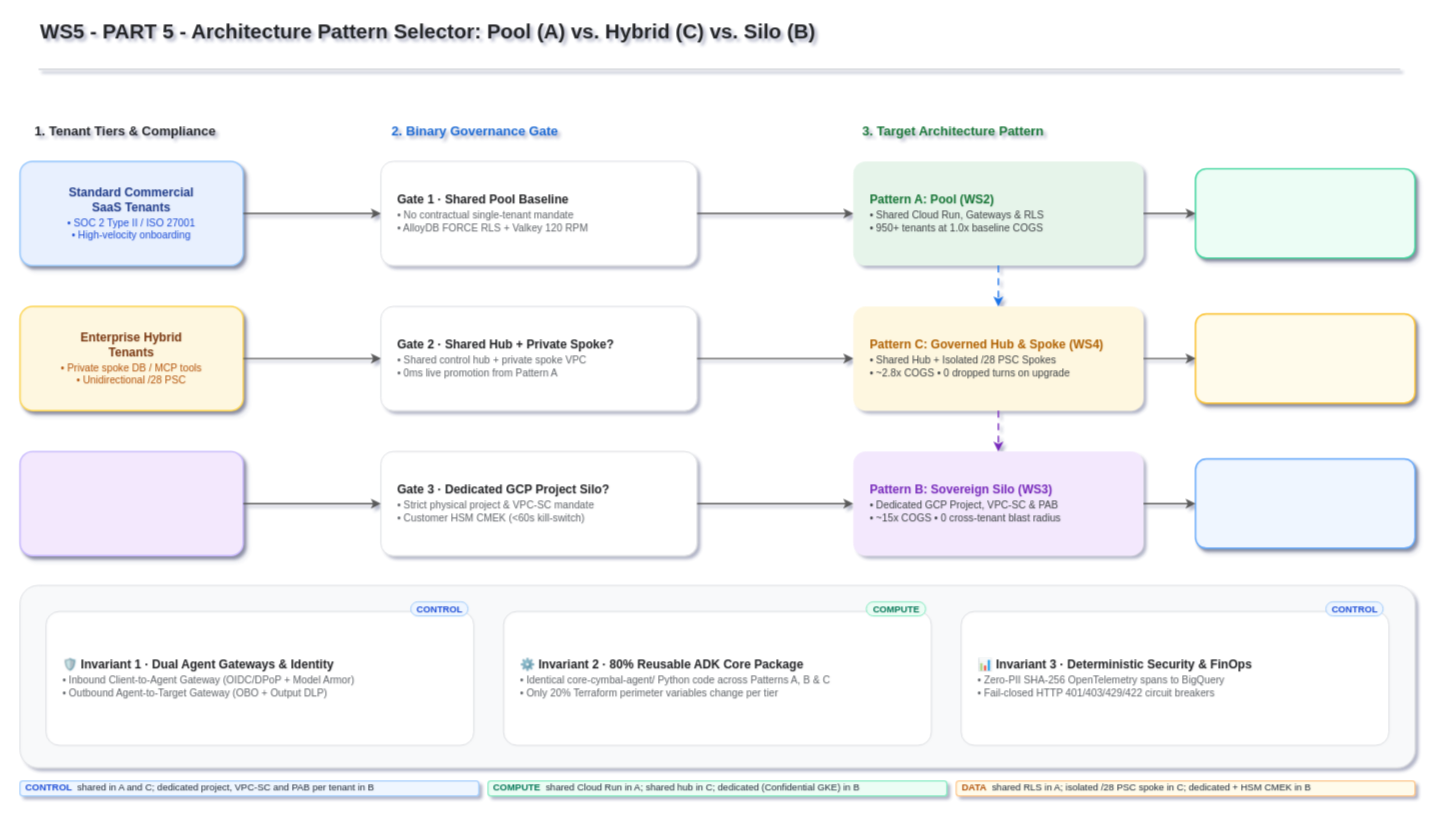
The diagram is 1443 pixels wide and 817 high, and some of its shapes have lost their labels. Here are the shapes that lost their labels. From the top down, the centre of each, then its label:
At (1306,214): "1,000+ Tenants 1.0x Baseline COGS 89.1% Prefix Cache Savings".
At (1306,359): "Private Spoke Data 0ms Live Cutover Unidirectional /28 PSC".
At (132,504): "Regulated Sovereign Tenants • OCC/FDIC, DORA, HIPAA • Dedicated project & CMEK".
At (1306,504): "Full Enclave Silo 41.2s CMEK Halt Confidential GKE SEV-SNP".
